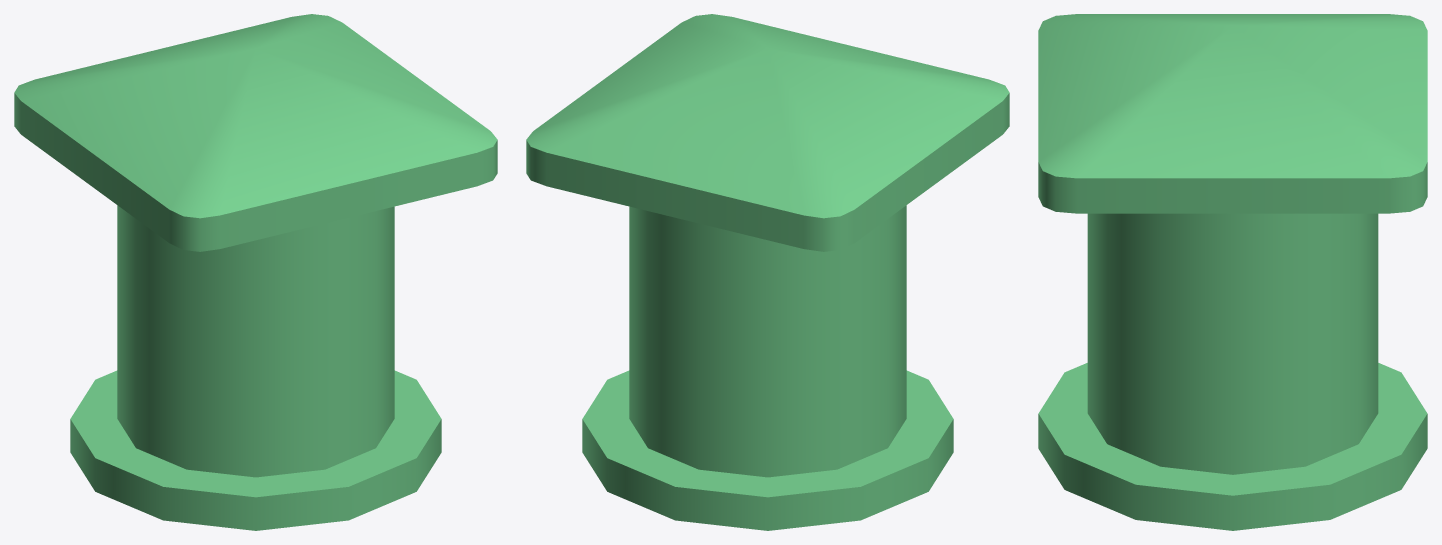
File: Pipe_Basic_End.fbx
3 views of the same model, side by side, from view 1: azimuth 30°, elevation 25°; view 2: azimuth 150°, elevation 25°; view 3: azimuth 270°, elevation 25° (orthographic). The views are drawn at different scales.
Visible parts, largest first — view 1: Pipe_Basic_End; view 2: Pipe_Basic_End; view 3: Pipe_Basic_End.
Boxes of the visible parts, x1,y1,x2,y2 form: Pipe_Basic_End: (14,14,497,530); Pipe_Basic_End: (526,14,1009,530); Pipe_Basic_End: (1038,14,1427,530).
Bounding box in the file's own units: 75 × 90 × 75.
